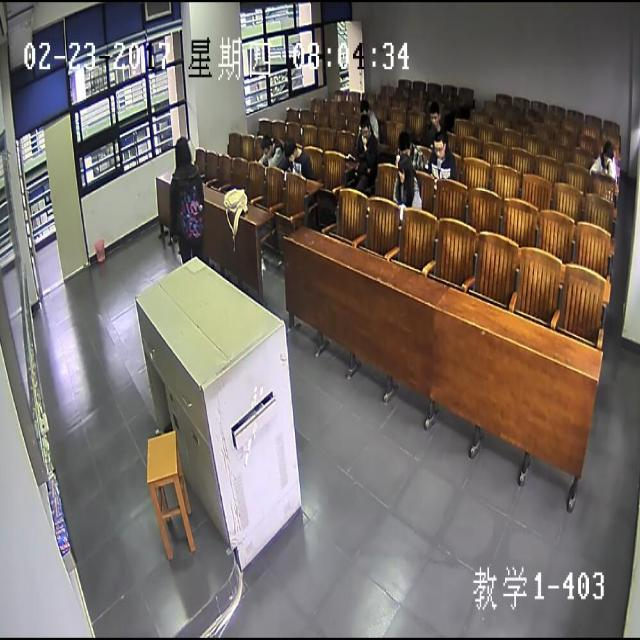person: (172, 135, 192, 165), (397, 154, 410, 187), (431, 133, 446, 160), (260, 134, 274, 159), (602, 139, 614, 166), (286, 138, 299, 162), (399, 133, 412, 157), (429, 102, 440, 130), (359, 115, 371, 137), (359, 97, 370, 115)
